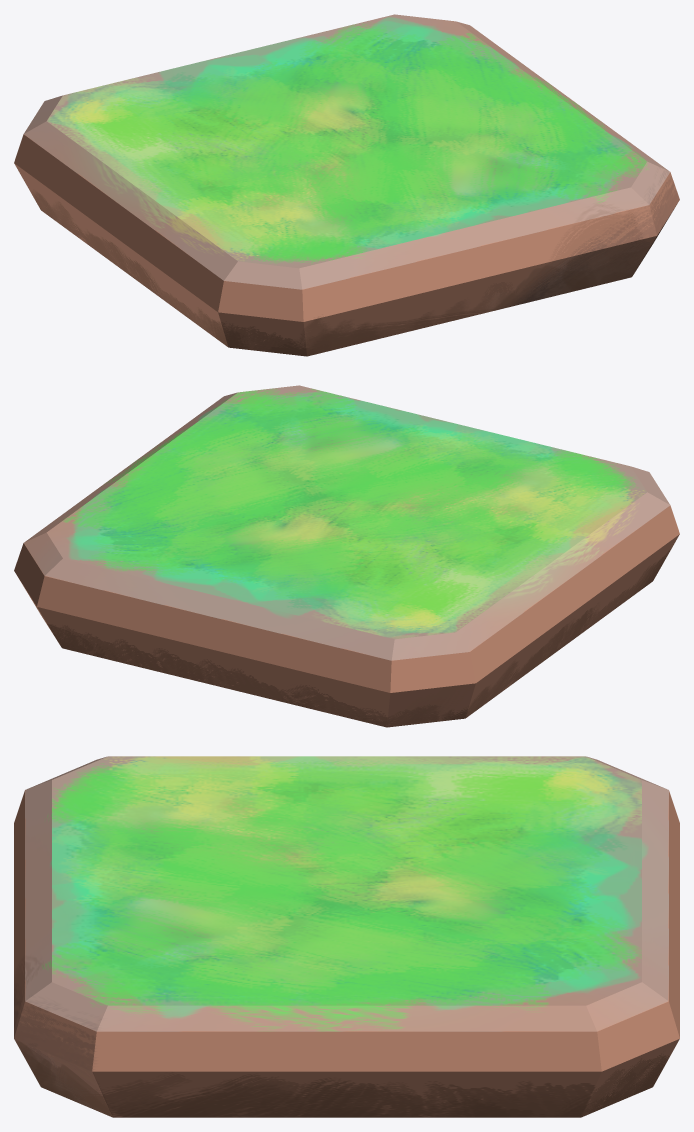
Rendered from Better_Island.glb.
3 views of the same model, one above another, from view 1: azimuth 30°, elevation 25°; view 2: azimuth 150°, elevation 25°; view 3: azimuth 270°, elevation 25° (orthographic). The views are drawn at different scales.
Parts seen in each view (by area): view 1: Cube; view 2: Cube; view 3: Cube.
Boxes of the visible parts, x1=… form: Cube: x1=14, y1=14, x2=679, y2=356; Cube: x1=14, y1=385, x2=679, y2=727; Cube: x1=14, y1=756, x2=679, y2=1117.
Size of the model in its own units: 13.75 by 4.71 by 13.75.
Materials: 1 (1 with a texture image).
